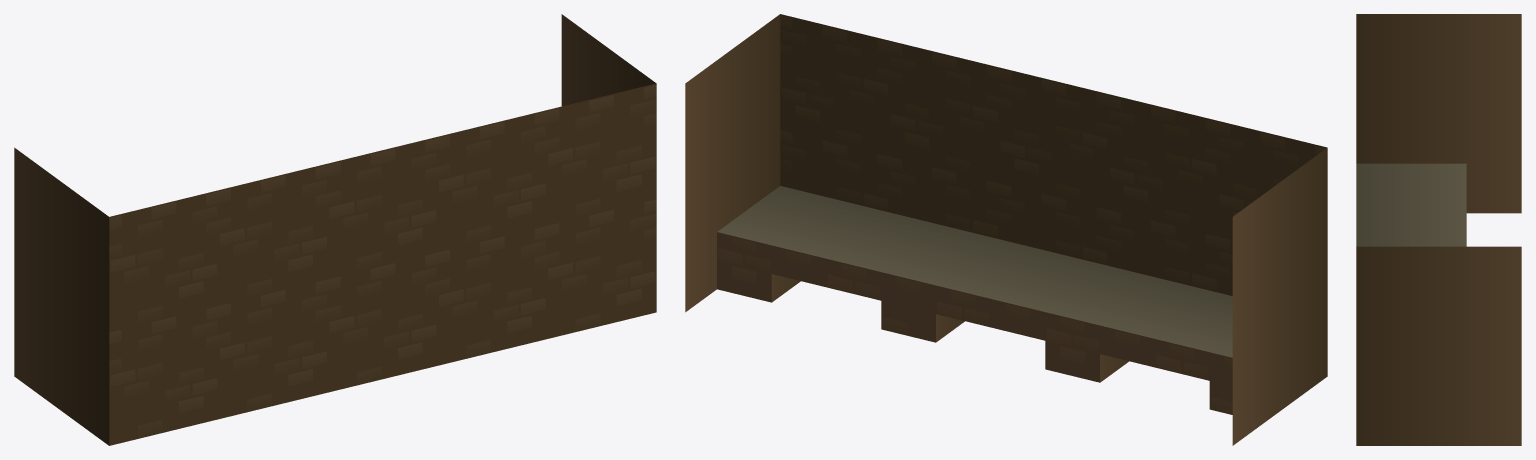
File: SM_Room8_8x20.fbx
The picture shows the model from 3 angles, left to right: view 1: azimuth 30°, elevation 25°; view 2: azimuth 150°, elevation 25°; view 3: azimuth 270°, elevation 25°; orthographic projection. The views are drawn at different scales.
Parts seen in each view (by area): view 1: SM_Room8_8x20; view 2: SM_Room8_8x20; view 3: SM_Room8_8x20.
Part boxes in pixels (x1,y1,x2,y2): SM_Room8_8x20: (14,14,656,445); SM_Room8_8x20: (685,14,1327,445); SM_Room8_8x20: (1356,14,1521,445).
Bounding box in the file's own units: 2000 × 600 × 800.
